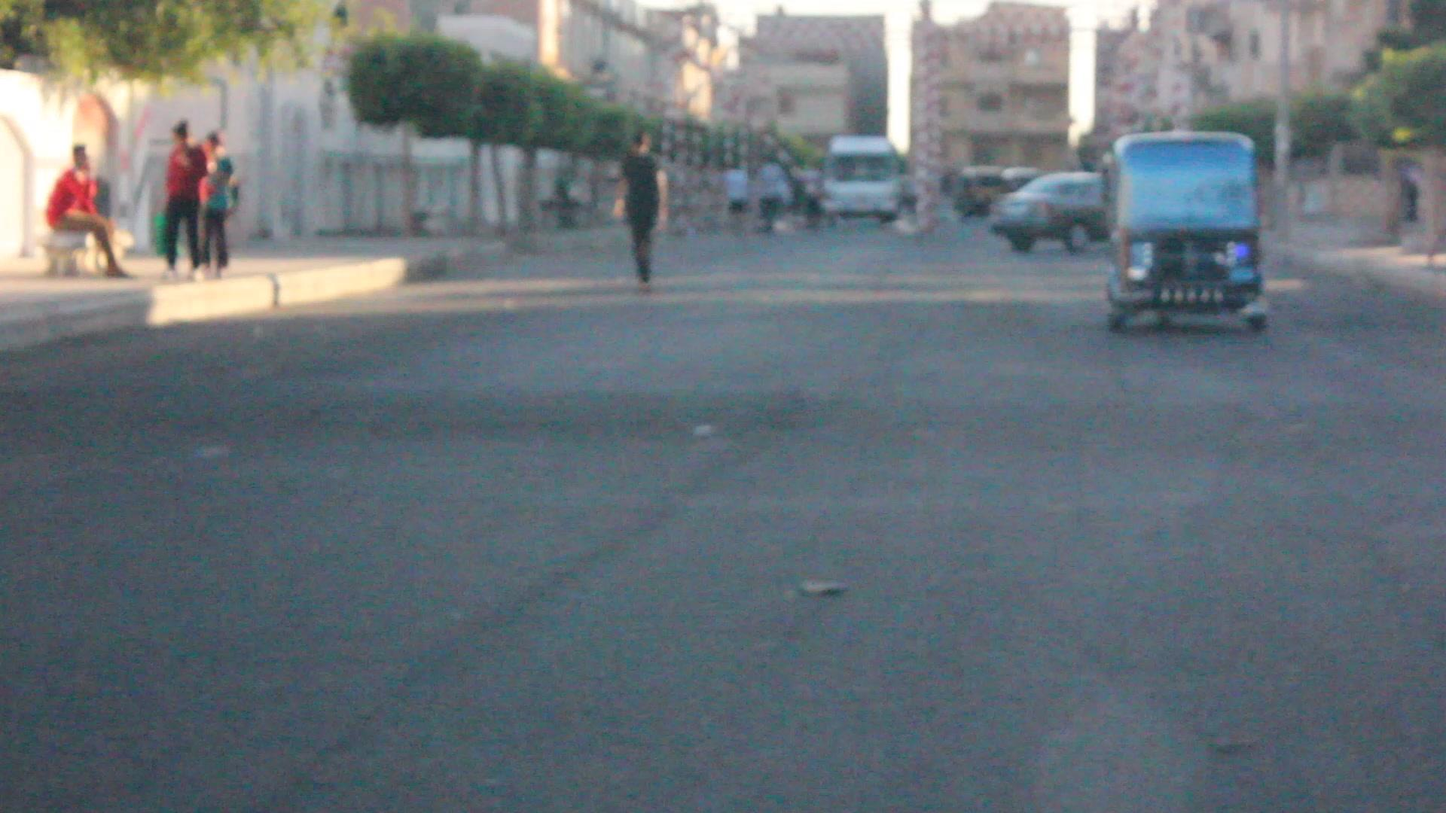Bump: (2, 350, 1446, 470)
